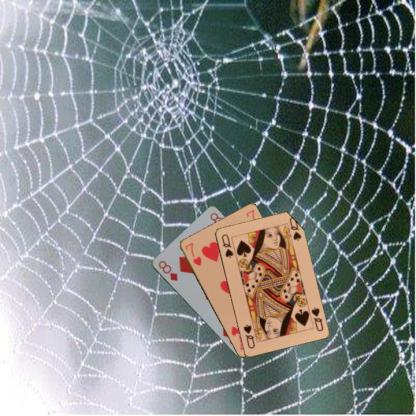7h: (182, 240, 203, 267)
8d: (156, 258, 178, 282)
Qs: (219, 231, 235, 259), (309, 305, 324, 332)
